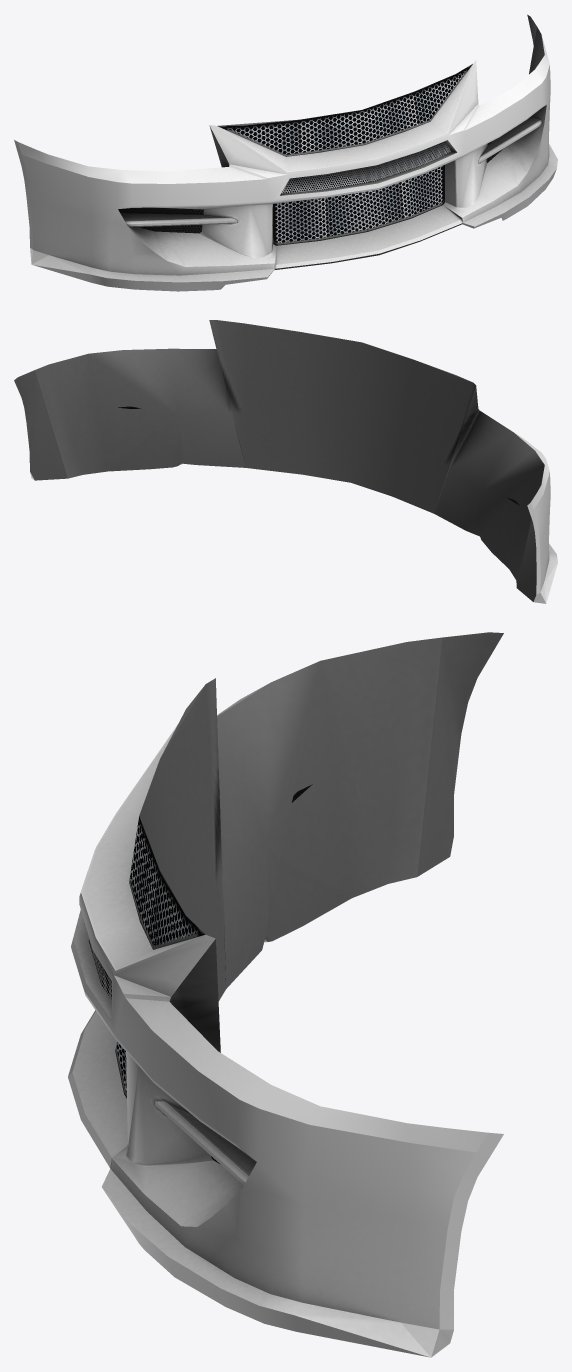
The model's file is Sport_2_Bumper_F_3.fbx.
3 views of the same model, one above another, from view 1: azimuth 30°, elevation 25°; view 2: azimuth 150°, elevation 25°; view 3: azimuth 270°, elevation 25° (orthographic). The views are drawn at different scales.
Visible parts, largest first — view 1: Sport_2_Bumper_F_3; view 2: Sport_2_Bumper_F_3; view 3: Sport_2_Bumper_F_3.
Part boxes in pixels (x1,y1,x2,y2): Sport_2_Bumper_F_3: (14,14,557,291); Sport_2_Bumper_F_3: (14,320,557,603); Sport_2_Bumper_F_3: (68,632,503,1357).
Size of the model in its own units: 183 by 50.64 by 67.19.
